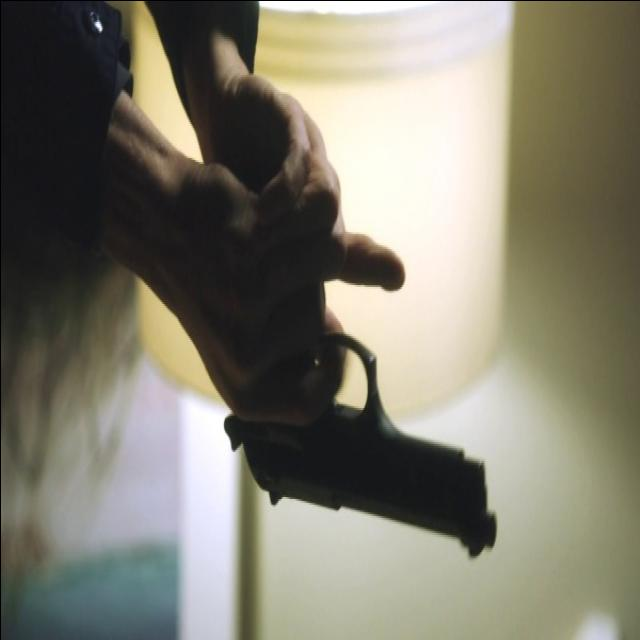weapons: (224, 204, 498, 570)
